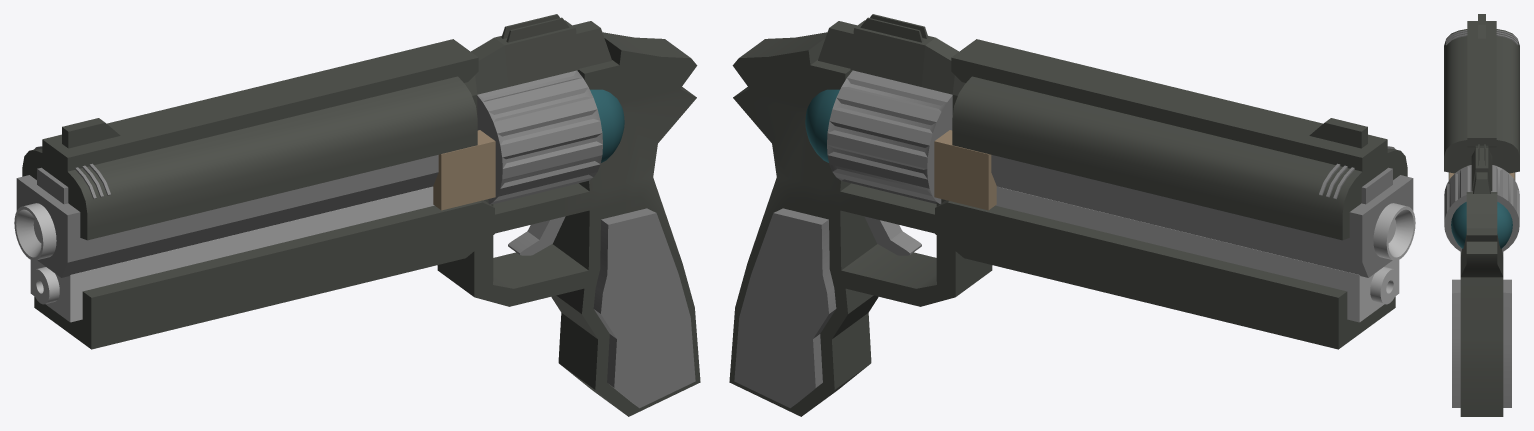
Rendered from gun.fbx.
The picture shows the model from 3 angles, left to right: view 1: azimuth 30°, elevation 25°; view 2: azimuth 150°, elevation 25°; view 3: azimuth 270°, elevation 25°; orthographic projection. The views are drawn at different scales.
Visible parts, largest first — view 1: Cube.003; view 2: Cube.003; view 3: Cube.003.
Part boxes in pixels (x1,y1,x2,y2): Cube.003: [14, 14, 700, 416]; Cube.003: [729, 14, 1415, 416]; Cube.003: [1444, 14, 1519, 416].
Bounding box in the file's own units: 16 × 9.5 × 2.75.
